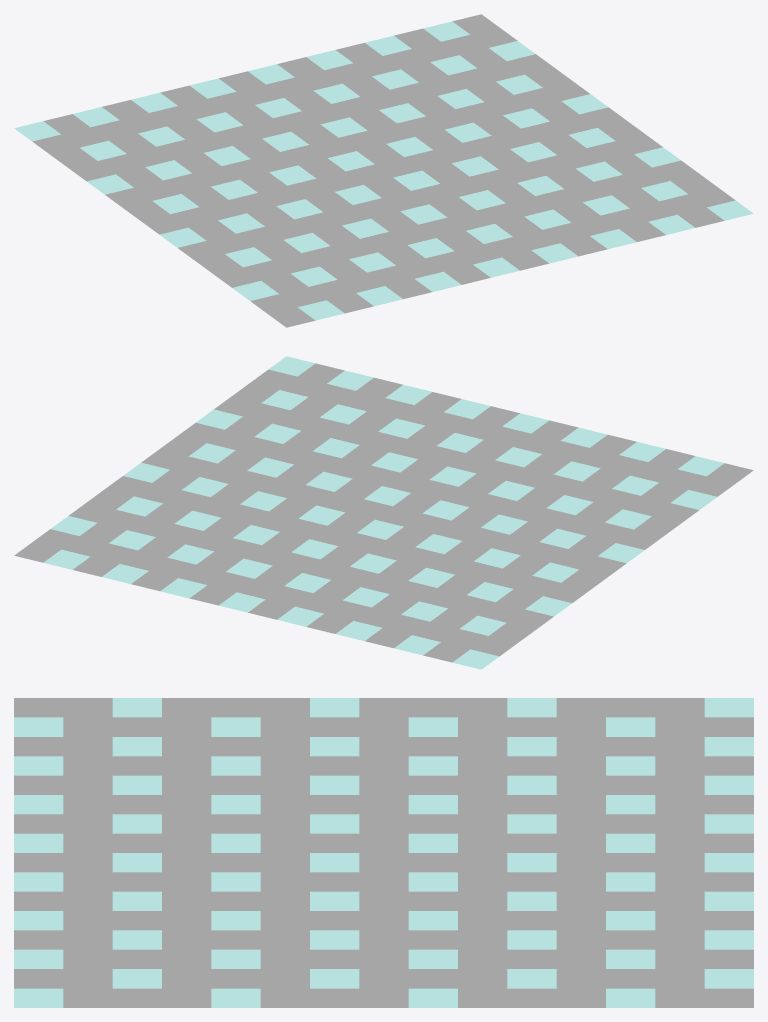
The model's file is TransBlGryFloor.glb.
The picture shows the model from 3 angles, top to bottom: view 1: azimuth 30°, elevation 25°; view 2: azimuth 150°, elevation 25°; view 3: azimuth 270°, elevation 25°; orthographic projection. The views are drawn at different scales.
Visible parts, largest first — view 1: Plane; view 2: Plane; view 3: Plane.
Part boxes in pixels (left/top/right/bottom): Plane: left=14, top=14, right=753, bottom=327; Plane: left=14, top=356, right=753, bottom=669; Plane: left=14, top=698, right=753, bottom=1007.
Size of the model in its own units: 78 by 0 by 78.75.
